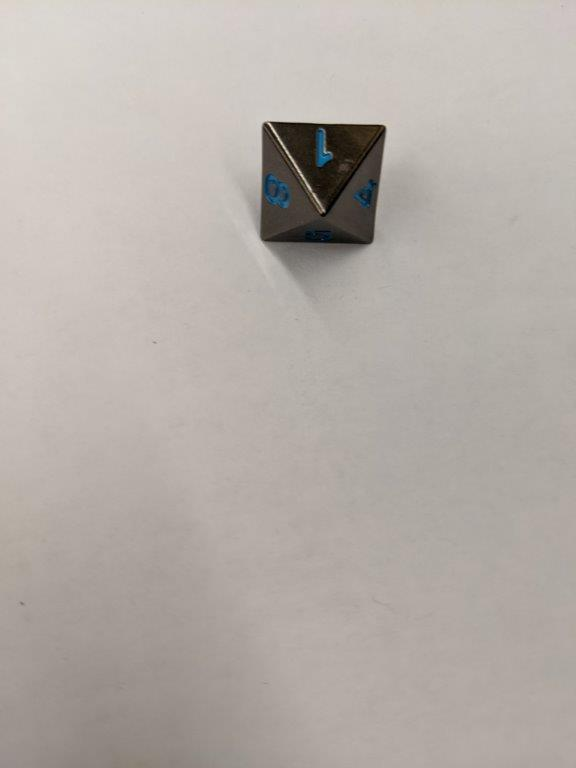d8-1: (257, 116, 387, 243)
